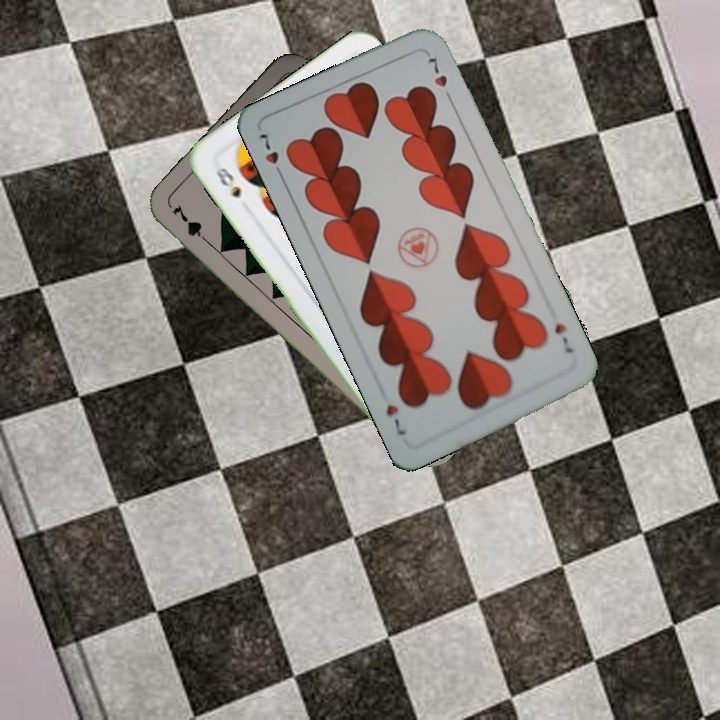G7: (168, 203, 216, 250)
H7: (254, 129, 287, 183), (550, 319, 576, 356)
S8: (211, 163, 244, 201)
